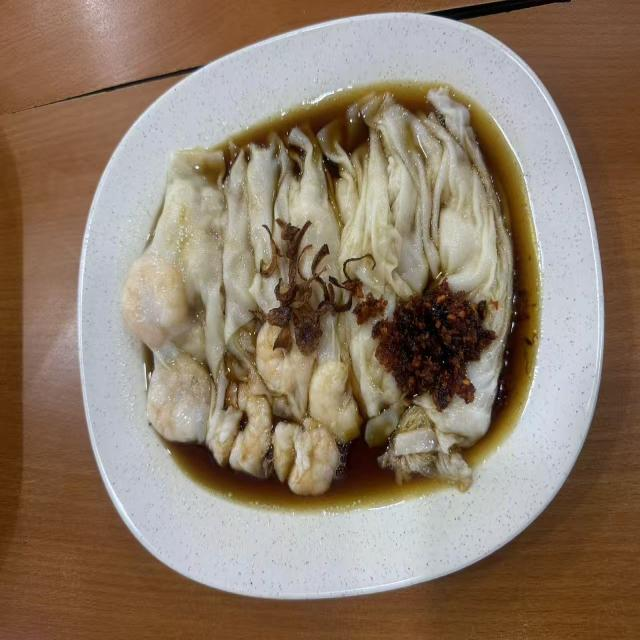Chee Cheong Fun: (81, 52, 570, 544)
